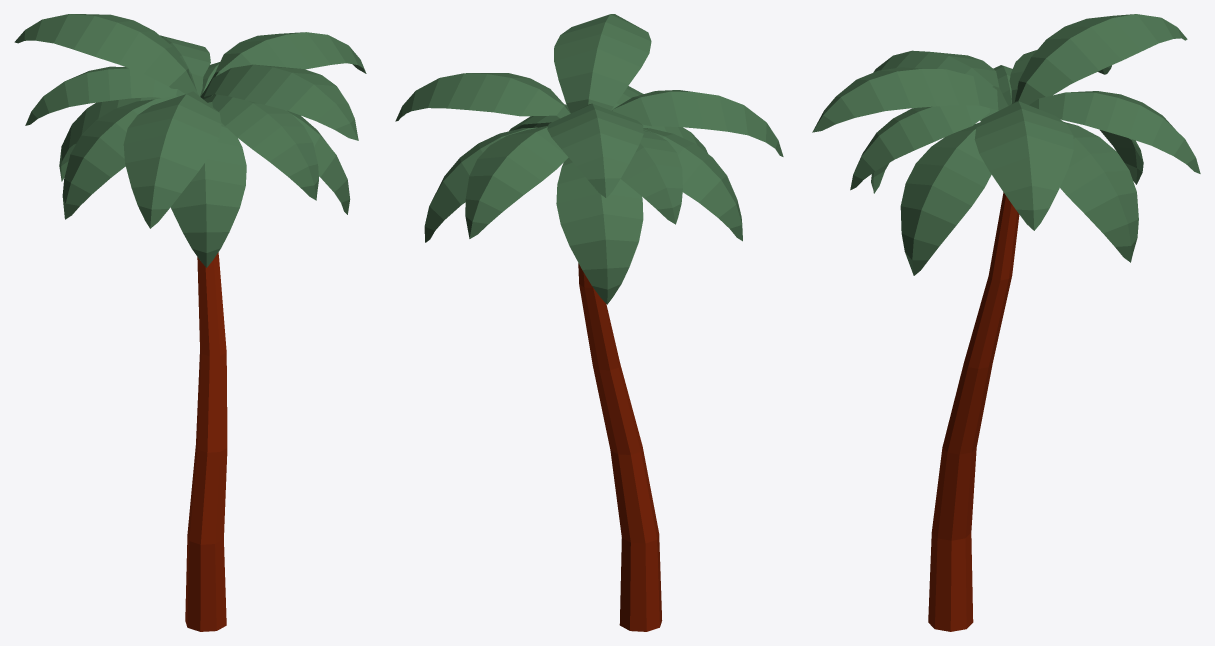
Rendered from Palm_tree_Folhas_Verde_Medio.fbx.
3 views of the same model, side by side, from view 1: azimuth 30°, elevation 25°; view 2: azimuth 150°, elevation 25°; view 3: azimuth 270°, elevation 25° (orthographic). The views are drawn at different scales.
Parts seen in each view (by area): view 1: Palm_tree_Folhas_Verde_Medio; view 2: Palm_tree_Folhas_Verde_Medio; view 3: Palm_tree_Folhas_Verde_Medio.
Part boxes in pixels (x1,y1,x2,y2): Palm_tree_Folhas_Verde_Medio: (14, 14, 366, 631); Palm_tree_Folhas_Verde_Medio: (395, 14, 783, 631); Palm_tree_Folhas_Verde_Medio: (812, 14, 1200, 631).
Size of the model in its own units: 324 by 540 by 324.
